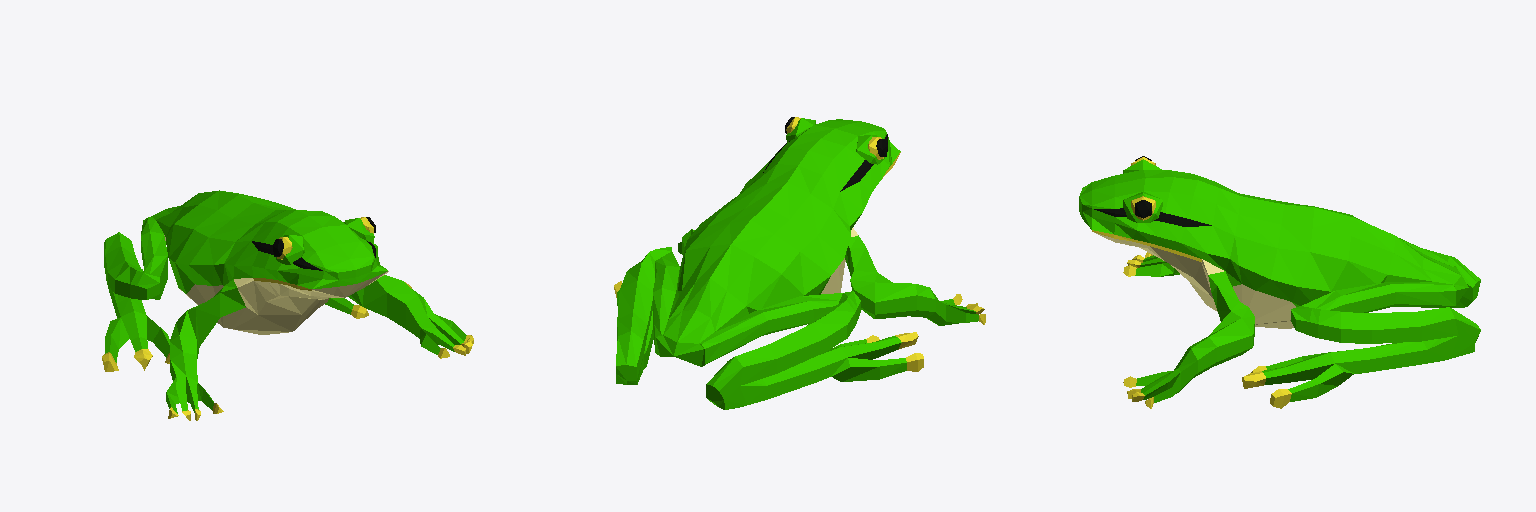
File: NOVELO_FROG.obj
3 renders of one model, left to right at view 1: azimuth 30°, elevation 25°; view 2: azimuth 150°, elevation 25°; view 3: azimuth 270°, elevation 25°, orthographic.
Parts seen in each view (by area): view 1: Null.1, Eyes; view 2: Null.1, Eyes; view 3: Null.1, Eyes.
Boxes of the visible parts, box(x1,y1,x2,y2) form: Null.1: box(102, 190, 473, 420); Eyes: box(273, 217, 375, 264); Null.1: box(614, 119, 985, 409); Eyes: box(785, 117, 887, 164); Null.1: box(1079, 170, 1480, 408); Eyes: box(1123, 156, 1162, 222).
Size of the model in its own units: 698 by 345 by 791.